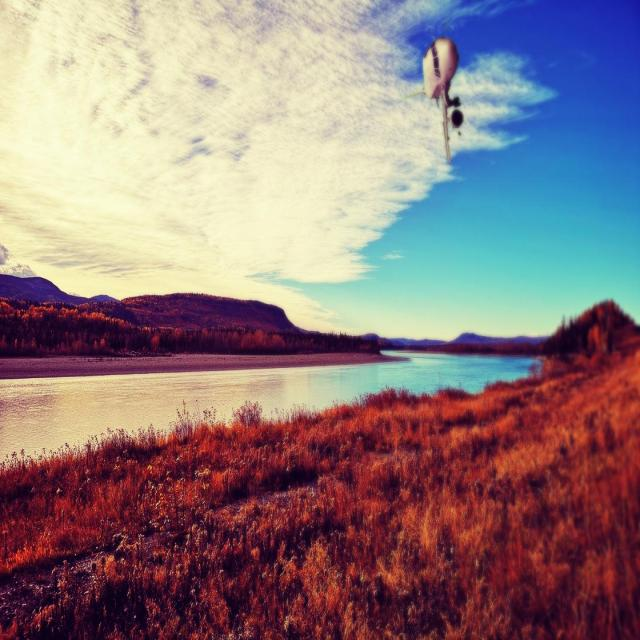airplane: (424, 36, 464, 165)
